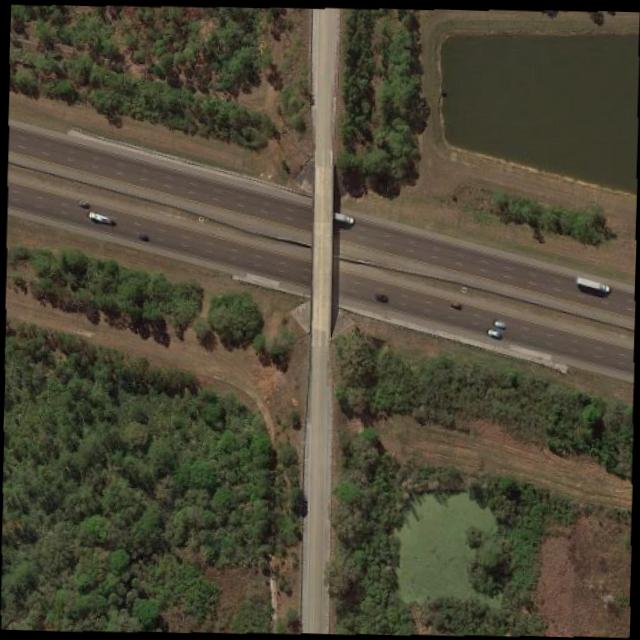large-vehicle: (574, 274, 609, 292), (87, 209, 113, 222)
small-vehicle: (330, 208, 354, 222), (134, 226, 149, 241), (486, 326, 502, 338), (374, 291, 388, 302), (77, 196, 90, 206), (448, 297, 461, 307), (494, 318, 505, 328)
